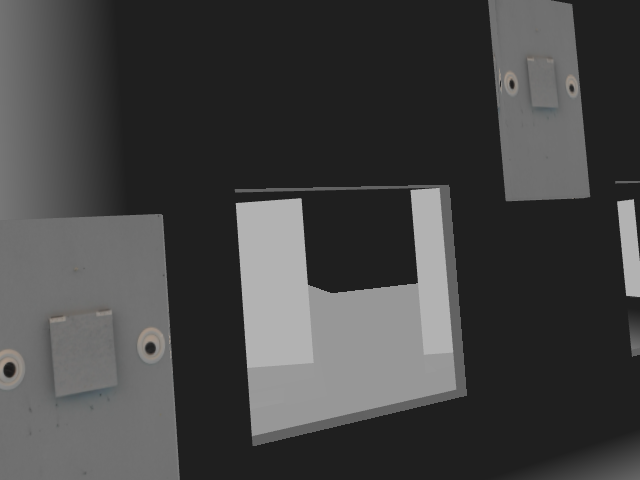facade: (0, 307, 163, 397), (502, 55, 579, 109)
